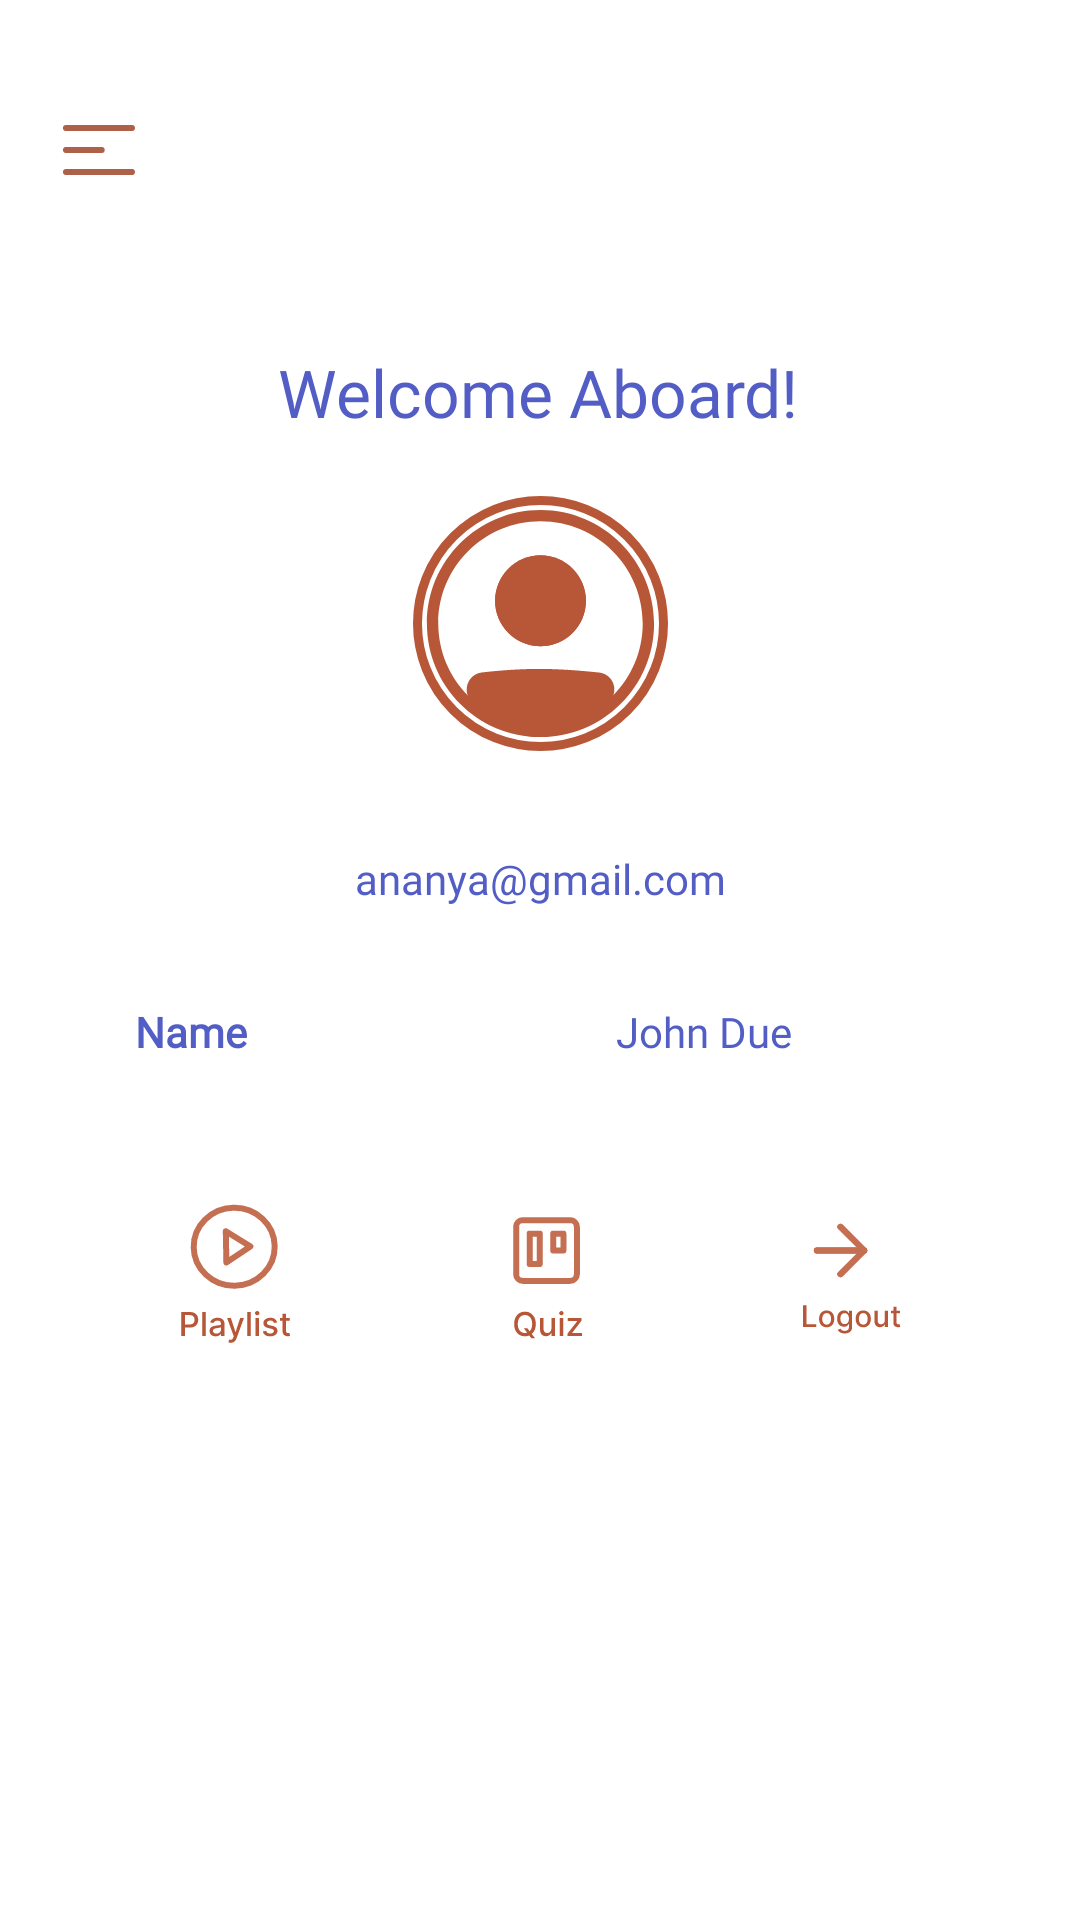

Icons on this 1080 x 1920 Android screen, each with the point to tap as [x,y]:
hamburger: [99,150]
profile pic: [540,623]
